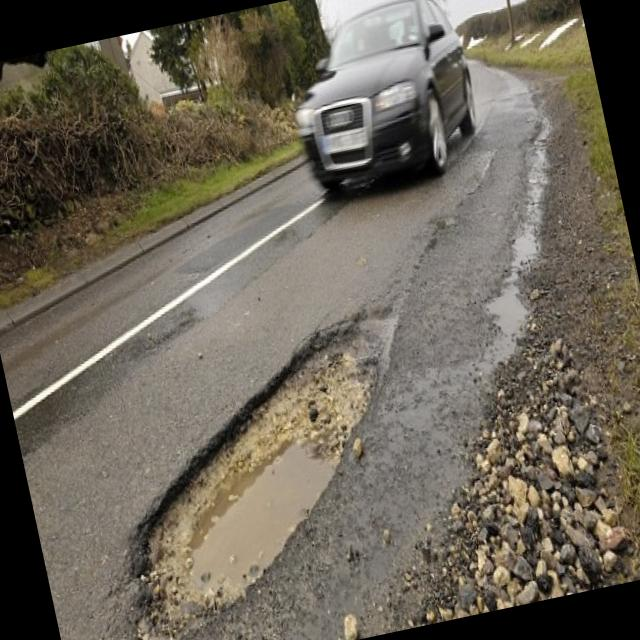Potholes: (84, 294, 462, 640)
